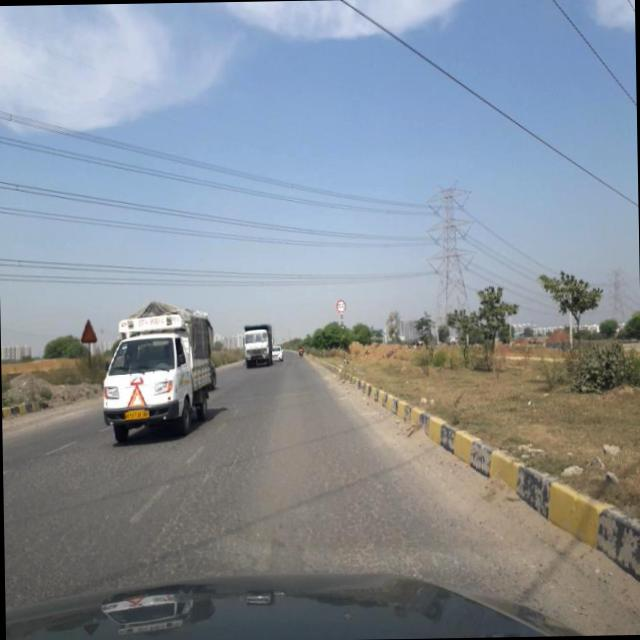crack: (8, 431, 458, 576)
